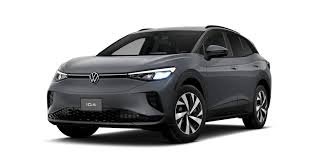car: (44, 23, 273, 146)
